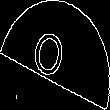O_S: (35, 23, 75, 87)
